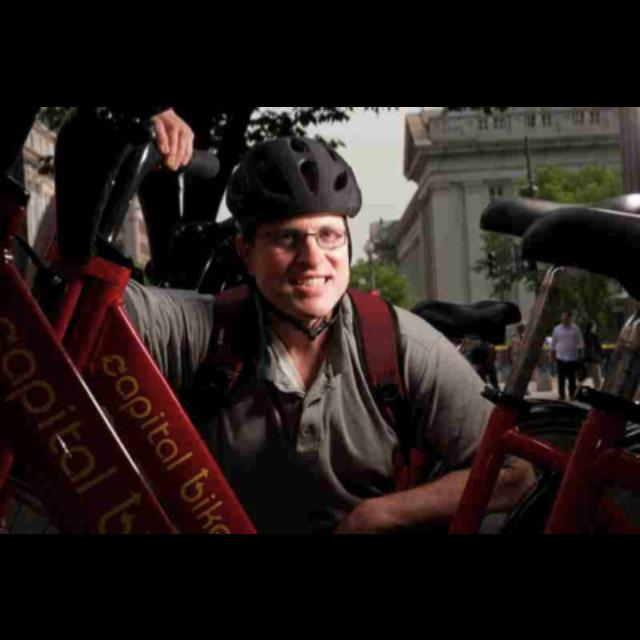With Helmet: (221, 140, 375, 316)
